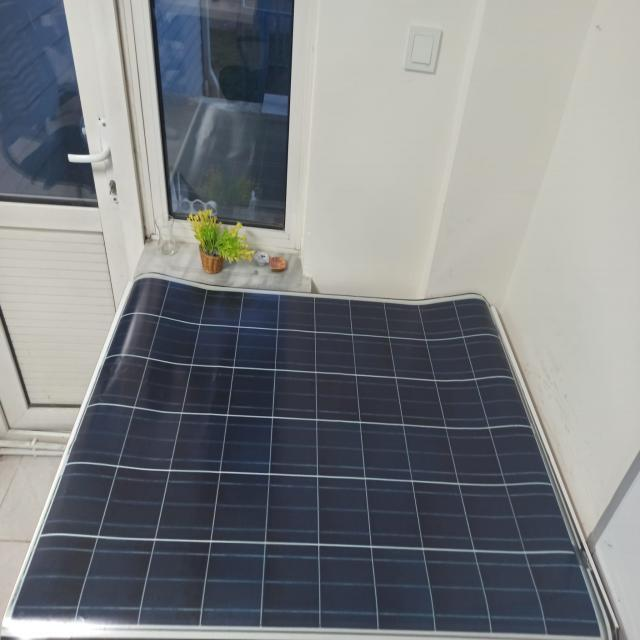no faulty: (2, 275, 622, 640)
